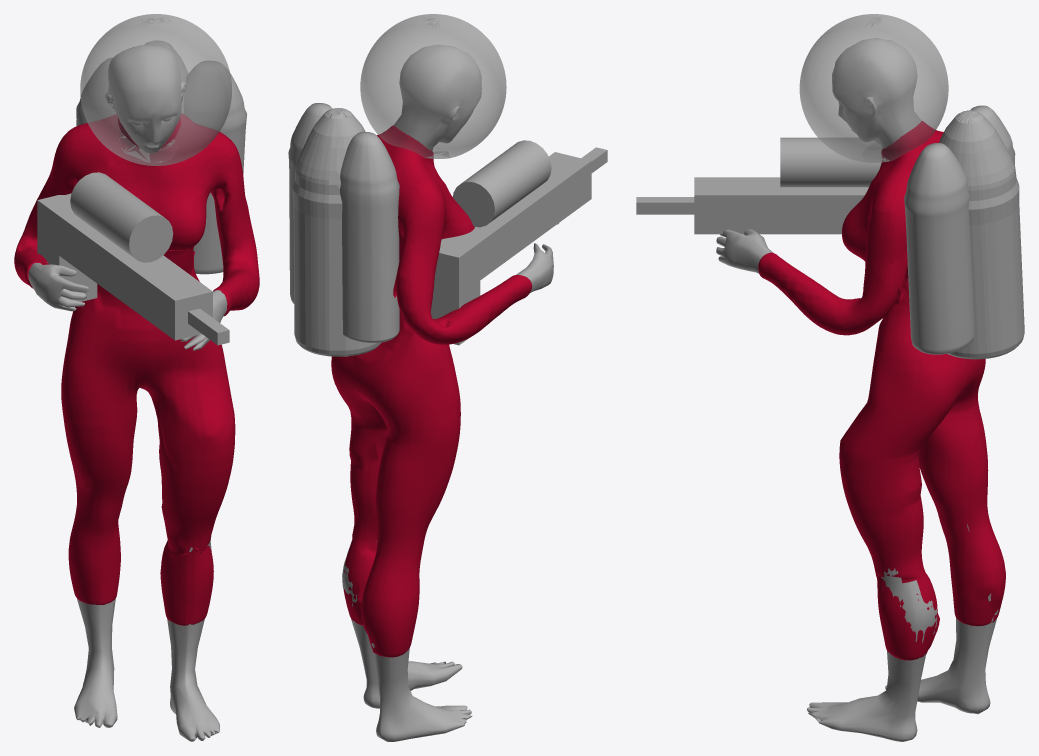
The model's file is MainCharacterBlockout_LP.fbx.
The picture shows the model from 3 angles, left to right: view 1: azimuth 30°, elevation 25°; view 2: azimuth 150°, elevation 25°; view 3: azimuth 270°, elevation 25°; orthographic projection. The views are drawn at different scales.
Parts seen in each view (by area): view 1: Suit:obj10, Suit:obj1, pCylinder2, Suit:obj9; view 2: Suit:obj10, Suit:obj9, Suit:obj1, pCylinder2; view 3: Suit:obj10, Suit:obj9, Suit:obj1, pCylinder2.
Part boxes in pixels (x1,y1,x2,y2): Suit:obj10: (14, 45, 259, 741); Suit:obj1: (80, 14, 231, 165); pCylinder2: (37, 172, 229, 345); Suit:obj9: (76, 40, 247, 274); Suit:obj10: (331, 44, 559, 741); Suit:obj9: (288, 103, 399, 356); Suit:obj1: (360, 14, 506, 158); pCylinder2: (431, 140, 607, 345); Suit:obj10: (716, 38, 1005, 741); Suit:obj9: (904, 105, 1024, 359); Suit:obj1: (799, 14, 948, 162); pCylinder2: (636, 137, 881, 234).
Size of the model in its own units: 0.1242 by 0.3566 by 0.1801.
